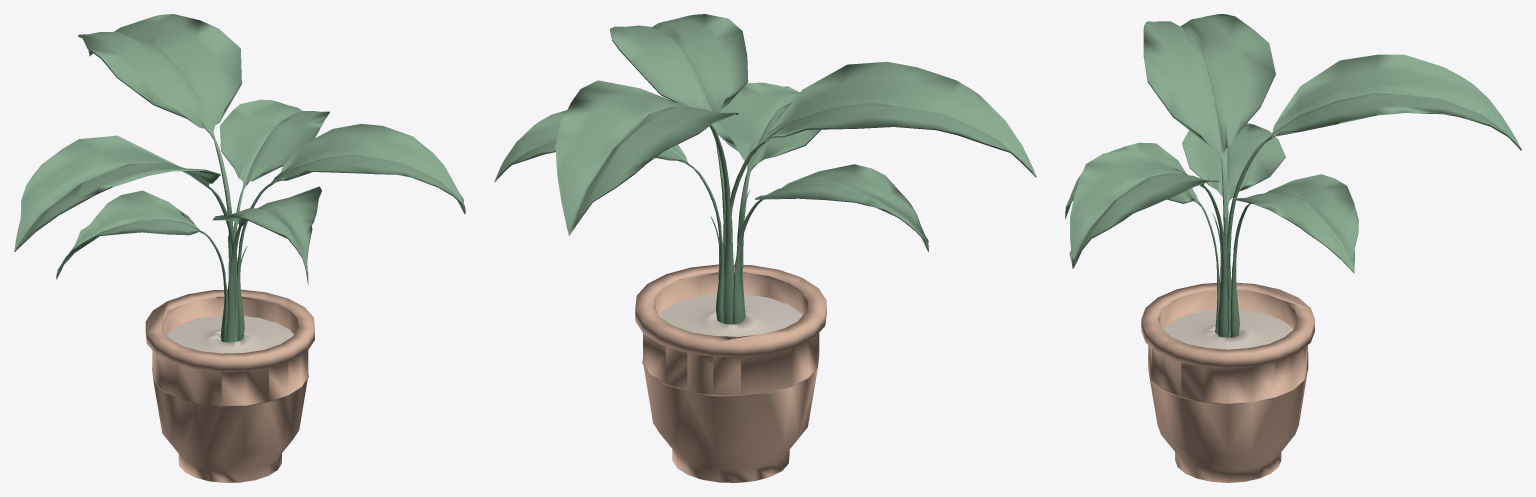
The model's file is plant_broad.glb.
3 views of the same model, side by side, from view 1: azimuth 30°, elevation 25°; view 2: azimuth 150°, elevation 25°; view 3: azimuth 270°, elevation 25° (orthographic). The views are drawn at different scales.
Parts seen in each view (by area): view 1: plant_broad_solid_#9CC3A4, plant_broad_solid_#F7CDB4, plant_broad_solid_#7FA98A, plant_broad_solid_#F6EBDD; view 2: plant_broad_solid_#9CC3A4, plant_broad_solid_#F7CDB4, plant_broad_solid_#7FA98A, plant_broad_solid_#F6EBDD; view 3: plant_broad_solid_#9CC3A4, plant_broad_solid_#F7CDB4, plant_broad_solid_#7FA98A, plant_broad_solid_#F6EBDD.
Boxes of the visible parts, bbox=[...] form: plant_broad_solid_#9CC3A4: bbox=[14, 14, 464, 342]; plant_broad_solid_#F7CDB4: bbox=[145, 289, 314, 482]; plant_broad_solid_#7FA98A: bbox=[14, 34, 465, 342]; plant_broad_solid_#F6EBDD: bbox=[167, 316, 293, 353]; plant_broad_solid_#9CC3A4: bbox=[494, 14, 1036, 316]; plant_broad_solid_#F7CDB4: bbox=[635, 264, 826, 482]; plant_broad_solid_#7FA98A: bbox=[494, 30, 1036, 324]; plant_broad_solid_#F6EBDD: bbox=[659, 294, 802, 336]; plant_broad_solid_#9CC3A4: bbox=[1066, 14, 1521, 331]; plant_broad_solid_#F7CDB4: bbox=[1141, 282, 1314, 482]; plant_broad_solid_#7FA98A: bbox=[1065, 74, 1521, 337]; plant_broad_solid_#F6EBDD: bbox=[1163, 310, 1293, 349].
Bounding box in the file's own units: 1.43 × 1.23 × 1.35.
